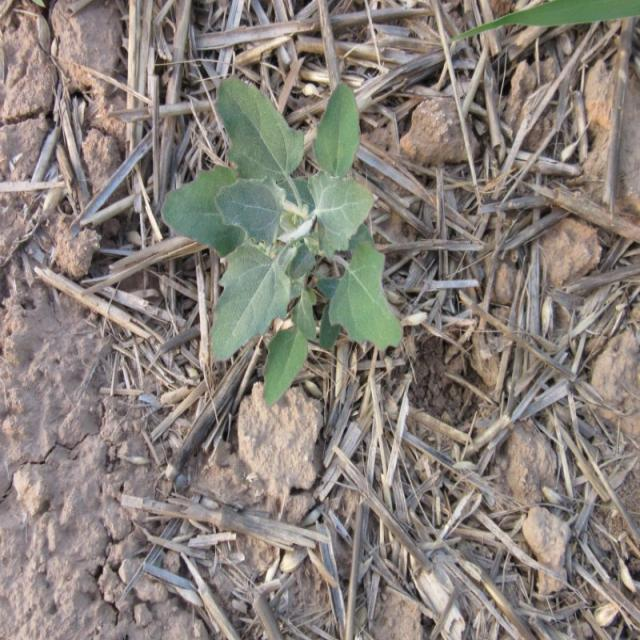ca: (164, 76, 404, 395)
